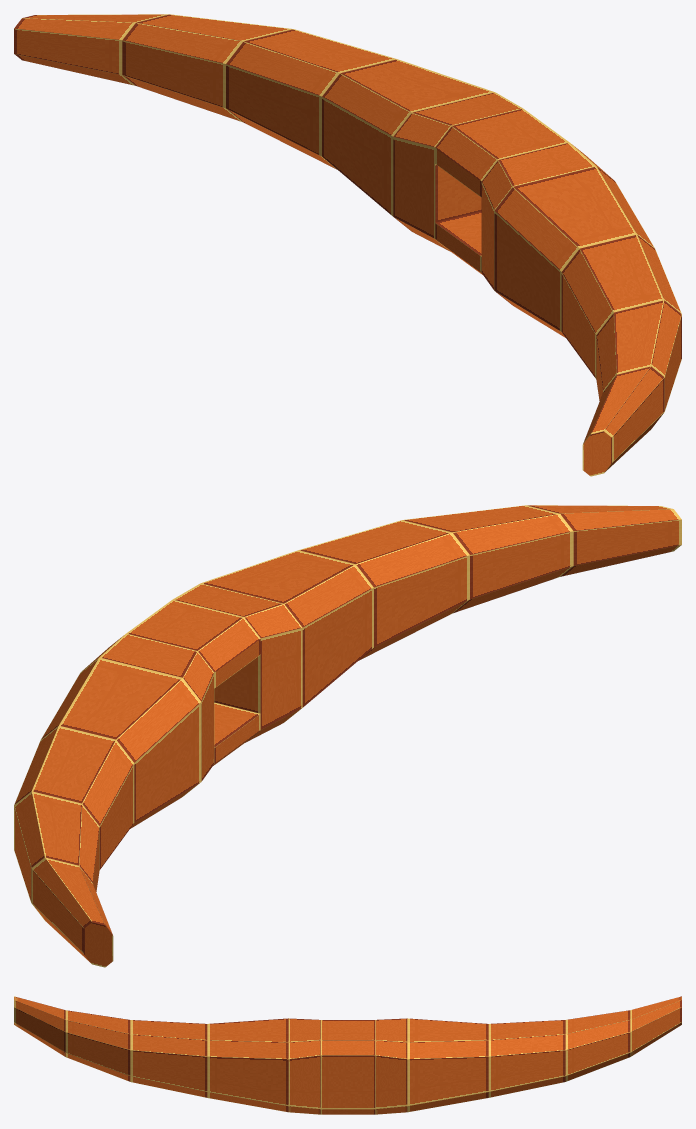
Rendered from bench_pickaxe_1_hot.obj.
The picture shows the model from 3 angles, top to bottom: view 1: azimuth 30°, elevation 25°; view 2: azimuth 150°, elevation 25°; view 3: azimuth 270°, elevation 25°; orthographic projection. The views are drawn at different scales.
Visible parts, largest first — view 1: geometry; view 2: geometry; view 3: geometry.
Part boxes in pixels (box(x1,y1,x2,y2)): geometry: box(14, 14, 681, 476); geometry: box(14, 505, 681, 967); geometry: box(14, 996, 681, 1114).
Size of the model in its own units: 0.2028 by 0.092 by 0.75.
